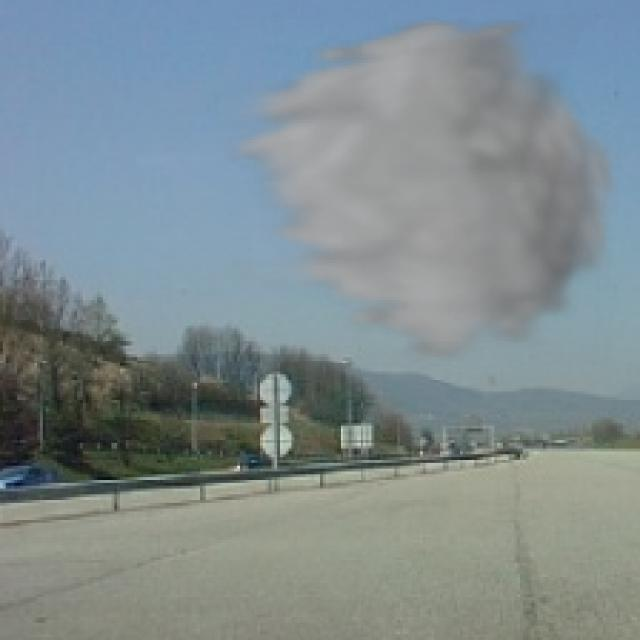smoke: (214, 14, 626, 366)
